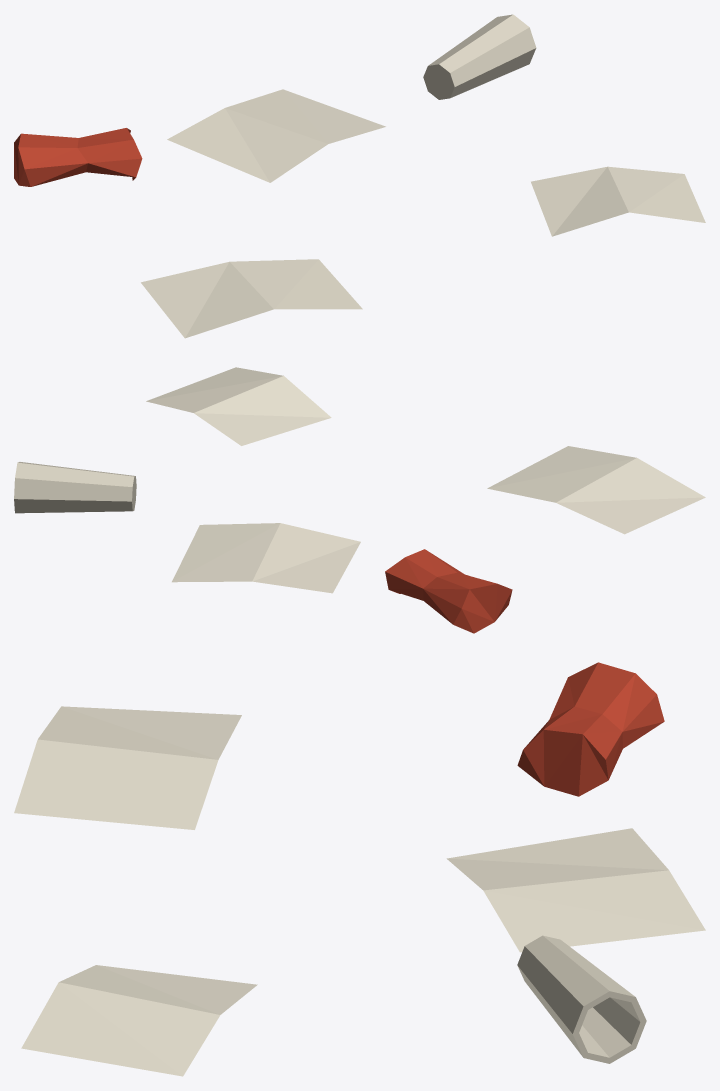
The model's file is bit_litter.glb.
The picture shows the model from 3 angles, top to bottom: view 1: azimuth 30°, elevation 25°; view 2: azimuth 150°, elevation 25°; view 3: azimuth 270°, elevation 25°; orthographic projection. The views are drawn at different scales.
Parts seen in each view (by area): view 1: Paper_Mesh, Can_Mesh, Cup_Mesh; view 2: Paper_Mesh, Can_Mesh, Cup_Mesh; view 3: Paper_Mesh, Can_Mesh, Cup_Mesh.
Part boxes in pixels (<box>): Paper_Mesh: <box>141,89,705,338</box>; Can_Mesh: <box>14,128,142,186</box>; Cup_Mesh: <box>423,14,536,99</box>; Paper_Mesh: <box>146,367,705,593</box>; Can_Mesh: <box>385,549,512,633</box>; Cup_Mesh: <box>14,462,136,513</box>; Paper_Mesh: <box>14,706,705,1076</box>; Can_Mesh: <box>517,662,664,796</box>; Cup_Mesh: <box>517,935,646,1063</box>.
Bounding box in the file's own units: 0.7624 × 0.07 × 0.6023.
